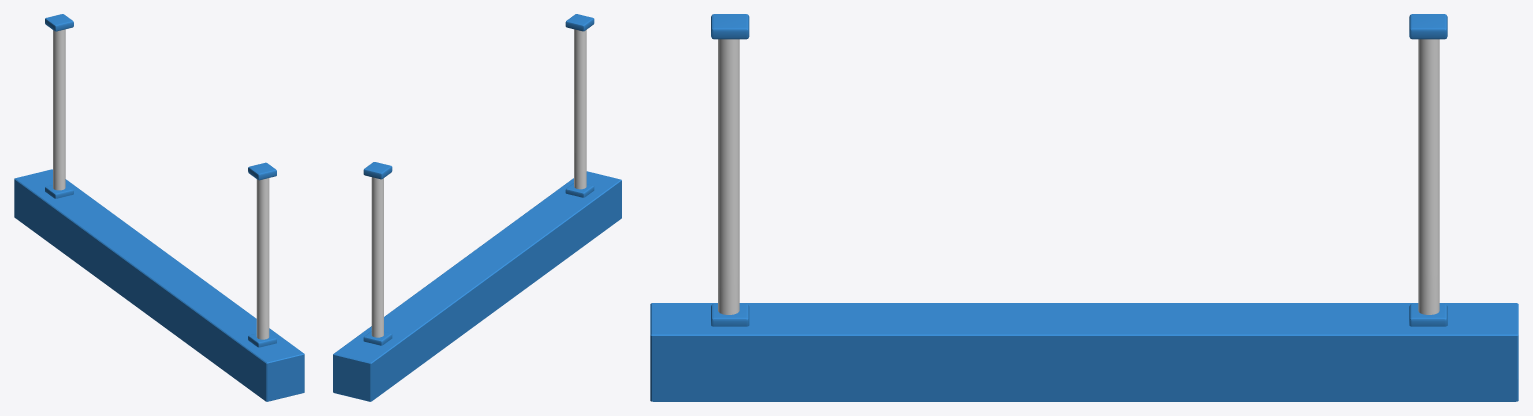
The model's file is lamba.fbx.
3 renders of one model, left to right at view 1: azimuth 30°, elevation 25°; view 2: azimuth 150°, elevation 25°; view 3: azimuth 270°, elevation 25°, orthographic. The views are drawn at different scales.
Visible parts, largest first — view 1: pCylinder11; view 2: pCylinder11; view 3: pCylinder11.
Part boxes in pixels (x1,y1,x2,y2): pCylinder11: (14,14,304,401); pCylinder11: (333,14,621,401); pCylinder11: (650,14,1518,401).
Size of the model in its own units: 25.93 by 136 by 293.
